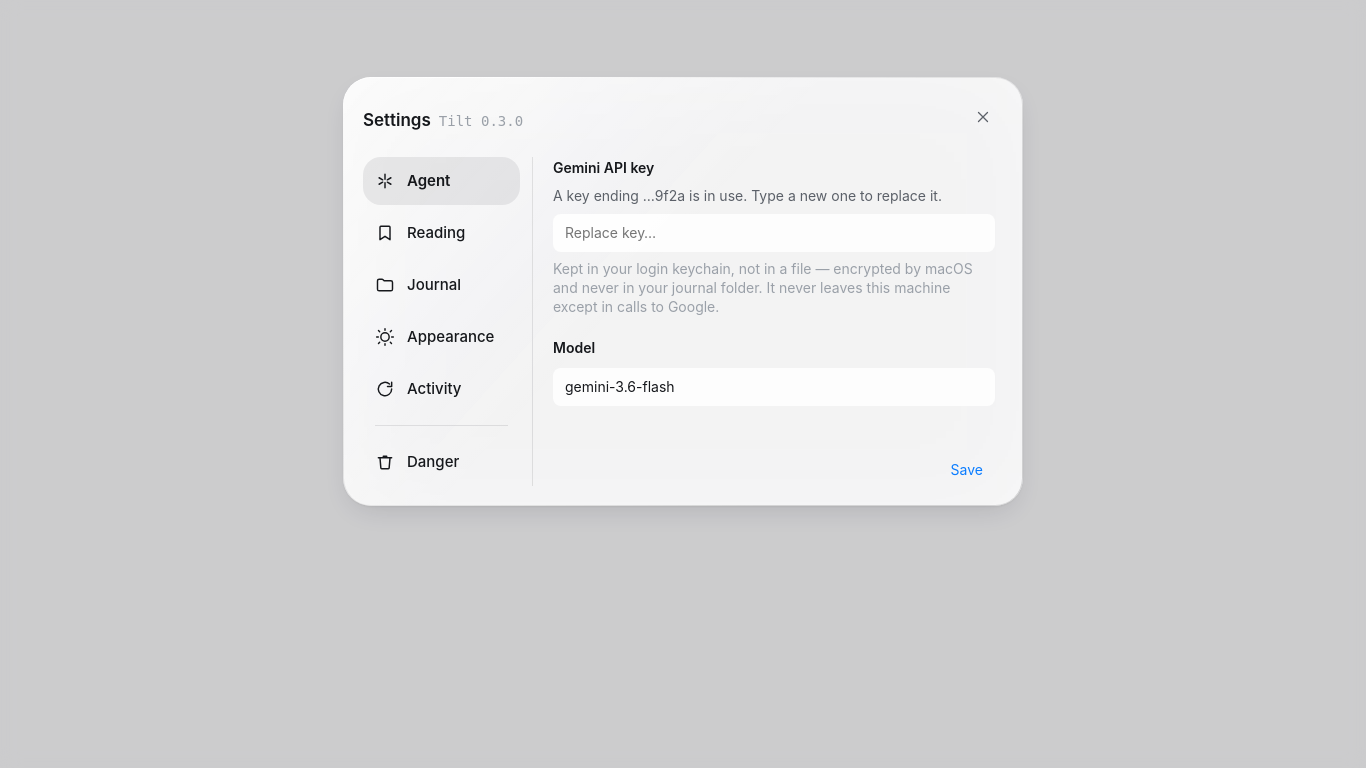
it: Settings › shows one panel at a time
Step 1. Click the button "Reading" → click(442, 233), box top-left (363, 209), bottom-right (520, 257)
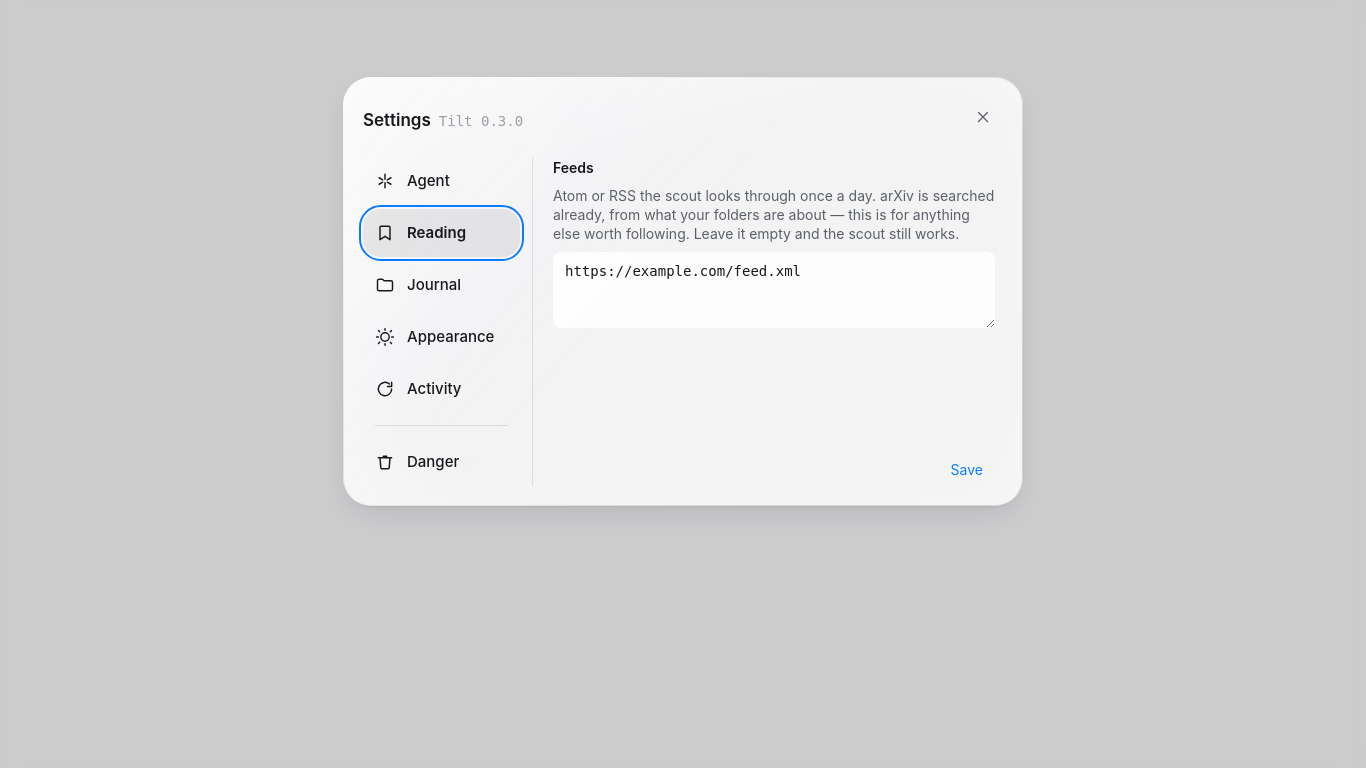
Now the text box named "feed urls" is shown, box top-left (553, 252), bottom-right (995, 328)
Now the heading labelled "Gemini API key" is gone
